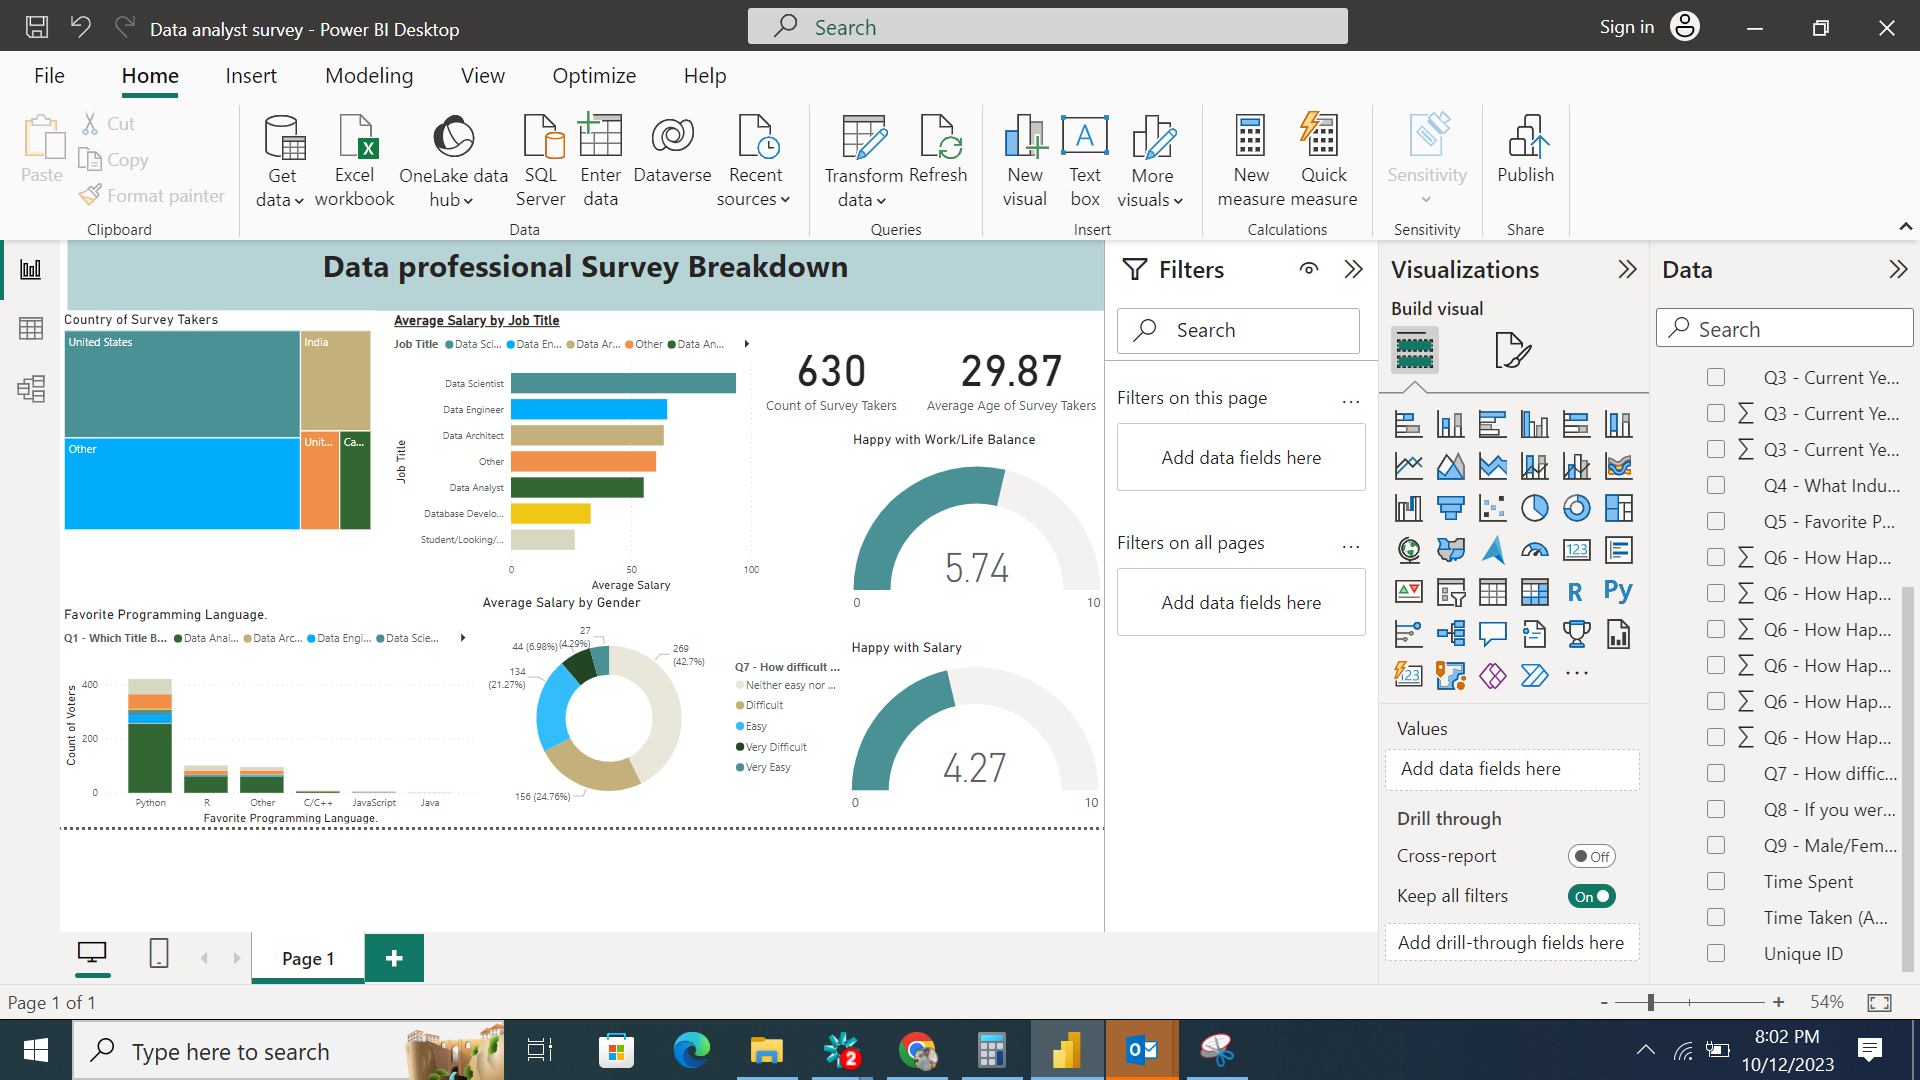

What the dashboard file says about the page in this screenshot:
{"tool":"powerbi","page":{"name":"Page 1","canvas":[1280,720],"ordinal":0},"visuals":[{"type":"textbox","box":[9.4,0,1270.6,86.8],"z":0},{"type":"textbox","box":[9,183.5,1271,150],"z":1000},{"type":"card","fields":{"Values":["Count(Data Professional Survey.Unique ID)"]},"box":[839.6,88.1,209.9,149.9],"z":2000},{"type":"card","fields":{"Values":["Avg(Data Professional Survey.Q10 - Current Age)"]},"box":[1051.4,88.1,228.6,149.9],"z":3000},{"type":"barChart","title":"Average Salary by Job Title","fields":{"Category":["Data Professional Survey.Q1 - Which Title Best Fits your Current Role?.1"],"Y":["Avg(Data Professional Survey.Average Salary)"],"Series":["Data Professional Survey.Q1 - Which Title Best Fits your Current Role?.1"]},"box":[404.8,88.1,457.3,346.7],"z":4000},{"type":"columnChart","title":"Favorite Programming Language.","fields":{"Category":["Data Professional Survey.Q5 - Favorite Programming Language.1"],"Y":["CountNonNull(Data Professional Survey.Unique ID)"],"Series":["Data Professional Survey.Q1 - Which Title Best Fits your Current Role?.1"]},"box":[0,447.9,513.5,271.7],"z":5000},{"type":"treemap","title":"Country of Survey Takers","fields":{"Group":["Data Professional Survey.Q11 - Which Country do you live in?.1"],"Values":["CountNonNull(Data Professional Survey.Q11 - Which Country do you live in?.1)"]},"box":[0,86.2,386.1,273.6],"z":6000},{"type":"gauge","title":" Happy with Work/Life Balance","fields":{"Y":["Avg(Data Professional Survey.Q6 - How Happy are you in your Current Position with the following? (Work/Life Balance))"],"MinValue":["Min(Data Professional Survey.Q6 - How Happy are you in your Current Position with the following? (Work/Life Balance))"],"MaxValue":["Max(Data Professional Survey.Q6 - How Happy are you in your Current Position with the following? (Work/Life Balance))1"]},"box":[967,234.3,313,251.1],"z":7000},{"type":"gauge","title":"Happy with Salary","fields":{"Y":["Avg(Data Professional Survey.Q6 - How Happy are you in your Current Position with the following? (Salary))"],"MinValue":["Min(Data Professional Survey.Q6 - How Happy are you in your Current Position with the following? (Salary))"],"MaxValue":["Max(Data Professional Survey.Q6 - How Happy are you in your Current Position with the following? (Salary))"]},"box":[966,489.5,312.2,230.9],"z":8000},{"type":"donutChart","title":"Average Salary by Gender","fields":{"Category":["Data Professional Survey.Q7 - How difficult was it for you to break into Data?","Data Professional Survey.Q9 - Male/Female?"],"Series":["Data Professional Survey.Q7 - How difficult was it for you to break into Data?"],"Y":["CountNonNull(Data Professional Survey.Q7 - How difficult was it for you to break into Data?)"]},"box":[513.5,434.8,453.5,284.9],"z":9000}]}

Visuals, with their boxes on the page's 1280x720 design canvas (x1, y1, x2, y2). These are canvas units, not pixel positions in the 1920x1080 screenshot, which may show the page scaled, cropped or inside an application window:
textbox: crop(9, 0, 1280, 87)
textbox: crop(9, 184, 1280, 334)
card - Count(Data Professional Survey.Unique ID): crop(840, 88, 1050, 238)
card - Avg(Data Professional Survey.Q10 - Current Age): crop(1051, 88, 1280, 238)
"Average Salary by Job Title" barChart: crop(405, 88, 862, 435)
"Favorite Programming Language." columnChart: crop(0, 448, 514, 720)
"Country of Survey Takers" treemap: crop(0, 86, 386, 360)
" Happy with Work/Life Balance" gauge: crop(967, 234, 1280, 485)
"Happy with Salary" gauge: crop(966, 490, 1278, 720)
"Average Salary by Gender" donutChart: crop(514, 435, 967, 720)
